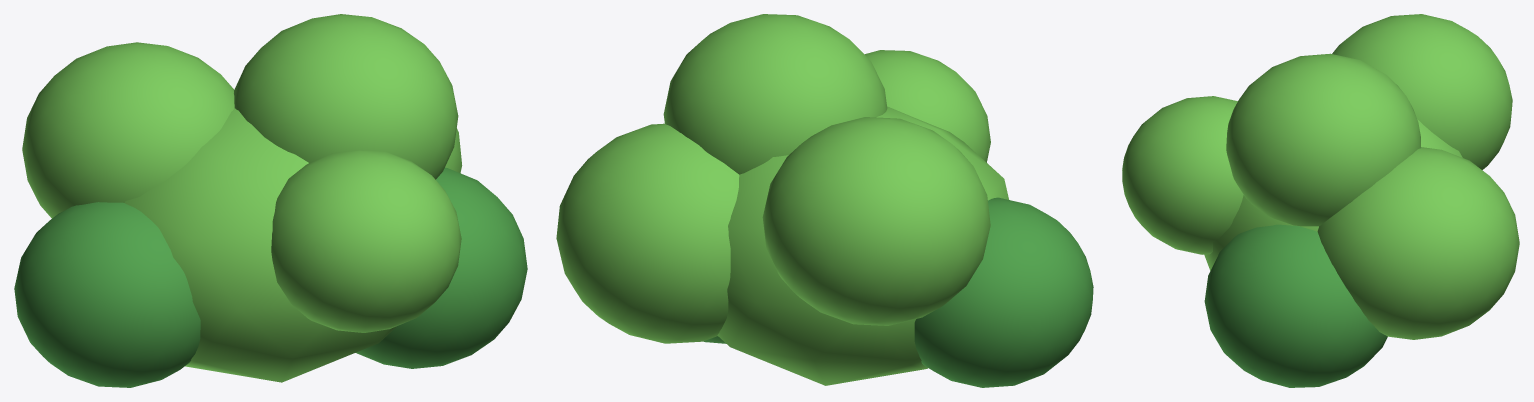
The model's file is prop_bush.glb.
3 views of the same model, side by side, from view 1: azimuth 30°, elevation 25°; view 2: azimuth 150°, elevation 25°; view 3: azimuth 270°, elevation 25° (orthographic). The views are drawn at different scales.
Parts seen in each view (by area): view 1: prop_bush; view 2: prop_bush; view 3: prop_bush.
Boxes of the visible parts, <box> form: prop_bush: <box>14,14,527,387</box>; prop_bush: <box>556,14,1093,387</box>; prop_bush: <box>1122,14,1519,387</box>.
Bounding box in the file's own units: 1.12 × 0.7719 × 0.9578.
